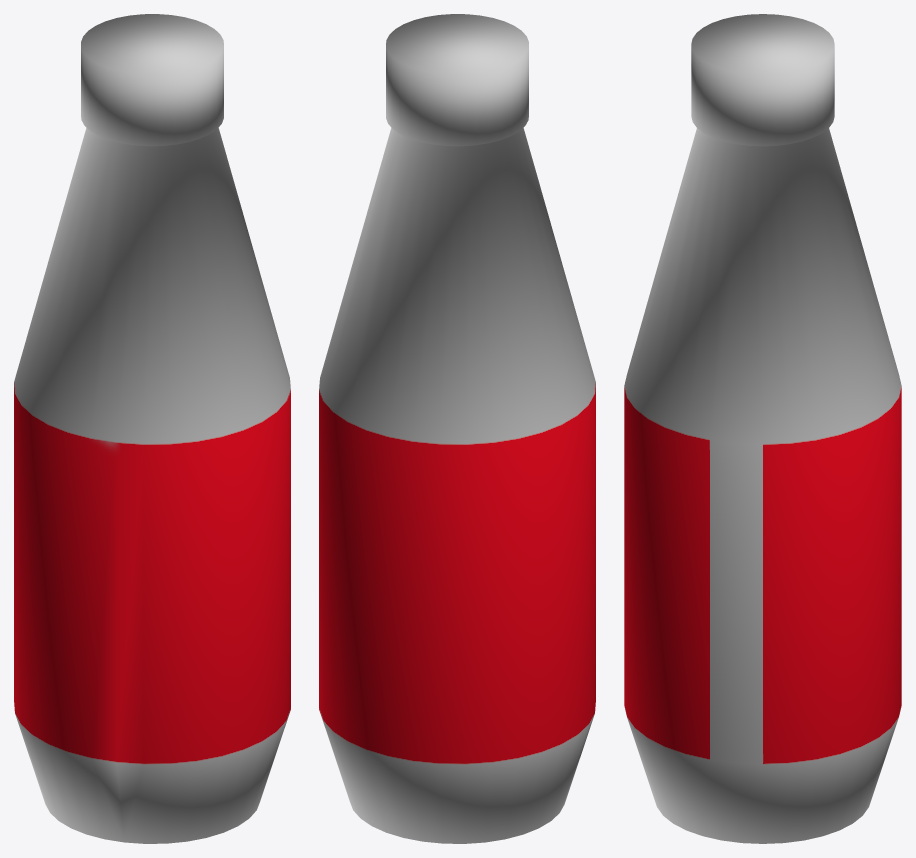
File: redBottle.fbx
3 renders of one model, left to right at view 1: azimuth 30°, elevation 25°; view 2: azimuth 150°, elevation 25°; view 3: azimuth 270°, elevation 25°, orthographic.
Visible parts, largest first — view 1: Cylinder; view 2: Cylinder; view 3: Cylinder.
Part boxes in pixels (x1,y1,x2,y2): Cylinder: (14,14,290,843); Cylinder: (319,14,595,843); Cylinder: (624,14,901,843).
Size of the model in its own units: 0.06 by 0.06 by 0.18.
